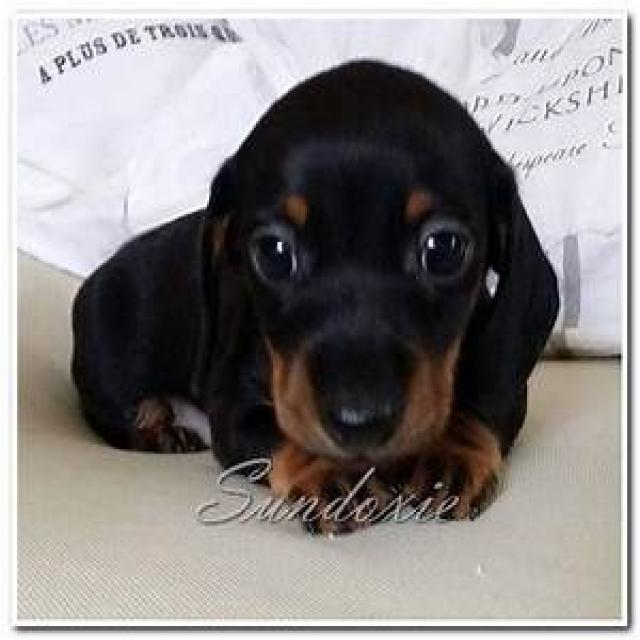dog: (68, 61, 561, 538)
